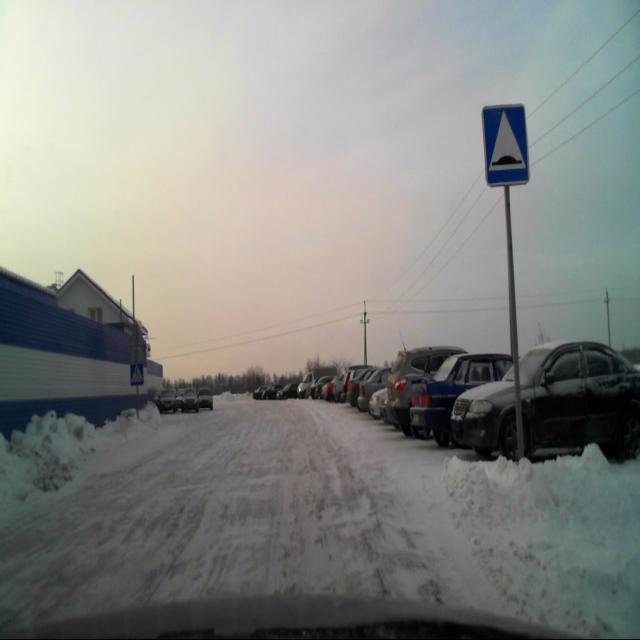object: (504, 188, 524, 461)
road sign: (482, 103, 530, 183), (130, 364, 144, 387)
